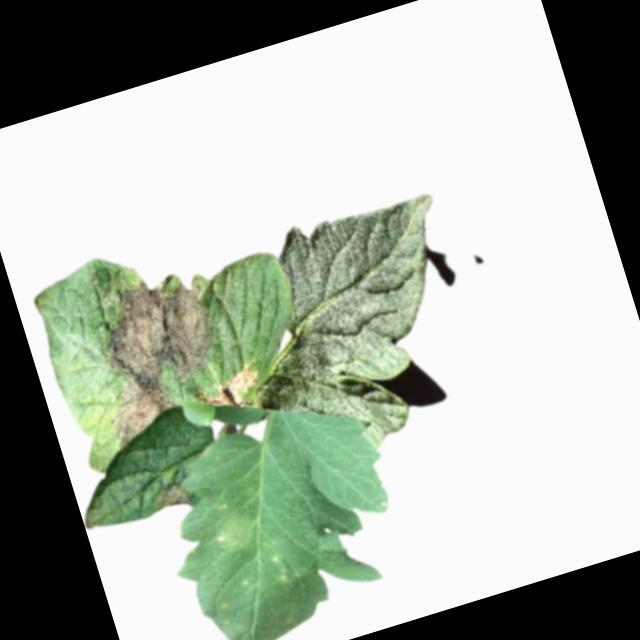Late_blight: (72, 262, 241, 448), (194, 358, 266, 418), (208, 508, 262, 560), (147, 475, 197, 514), (271, 566, 297, 591)
healthy: (212, 182, 500, 477)
